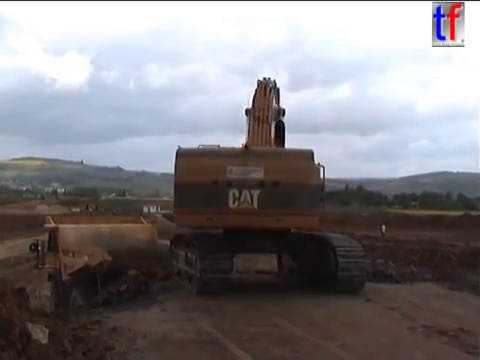excavator: (166, 73, 372, 298), (78, 201, 102, 218)
truck: (27, 212, 212, 325), (38, 192, 46, 202), (53, 193, 61, 202)
worker: (378, 219, 389, 242)
